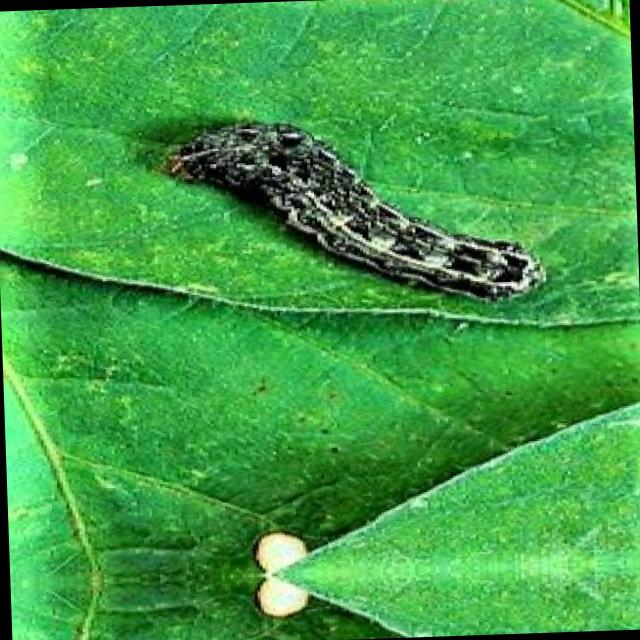Armyworm: (128, 106, 606, 311)
